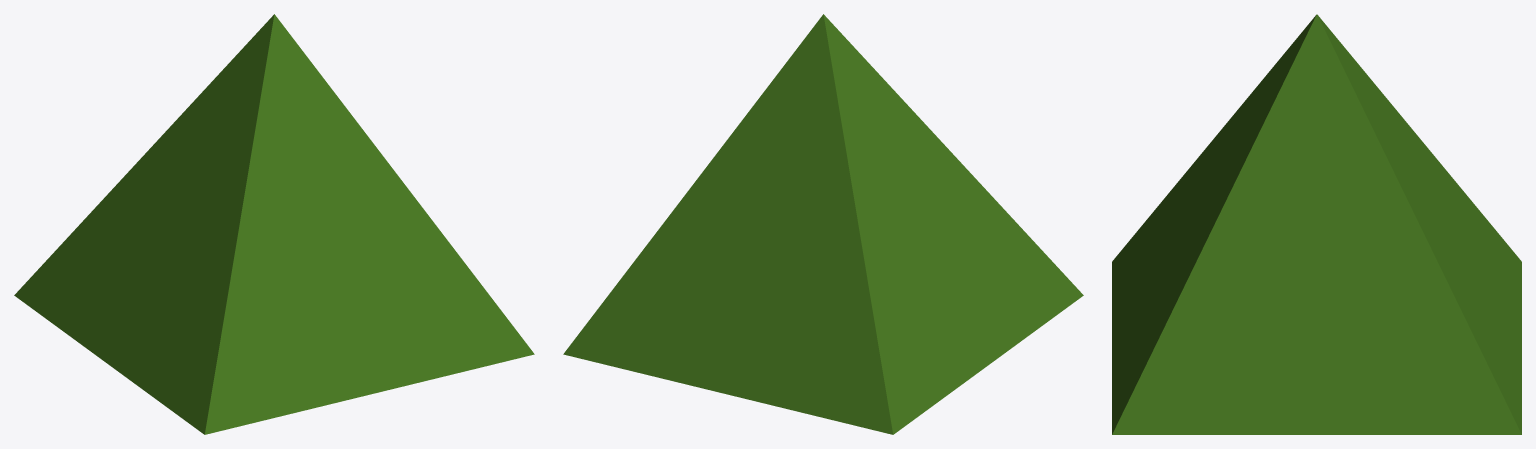
Rendered from piramid.fbx.
3 renders of one model, left to right at view 1: azimuth 30°, elevation 25°; view 2: azimuth 150°, elevation 25°; view 3: azimuth 270°, elevation 25°, orthographic. The views are drawn at different scales.
Visible parts, largest first — view 1: piramid; view 2: piramid; view 3: piramid.
Part boxes in pixels (box(x1,y1,x2,y2)): piramid: box(14, 14, 534, 434); piramid: box(563, 14, 1083, 434); piramid: box(1112, 14, 1521, 434).
Bounding box in the file's own units: 200 × 180 × 200.
